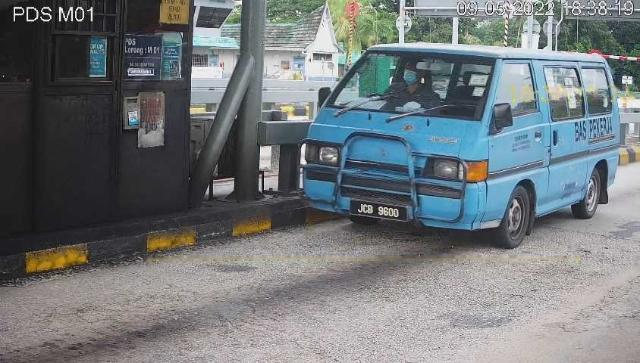License_Plate: (350, 201, 411, 226)
van: (299, 44, 622, 250)
